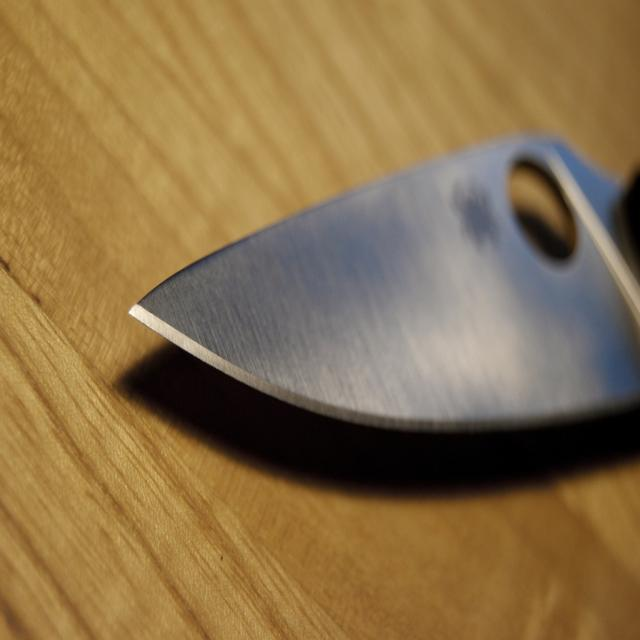Knife: (130, 138, 640, 432)
